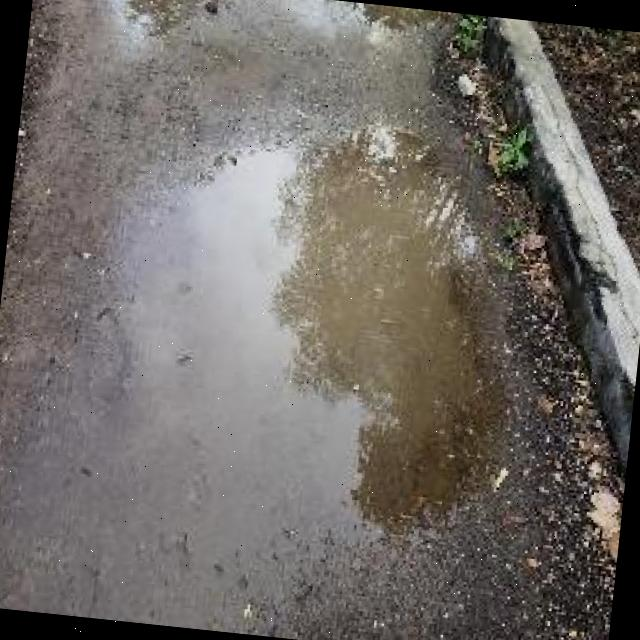waterlogging: (39, 99, 526, 612)
